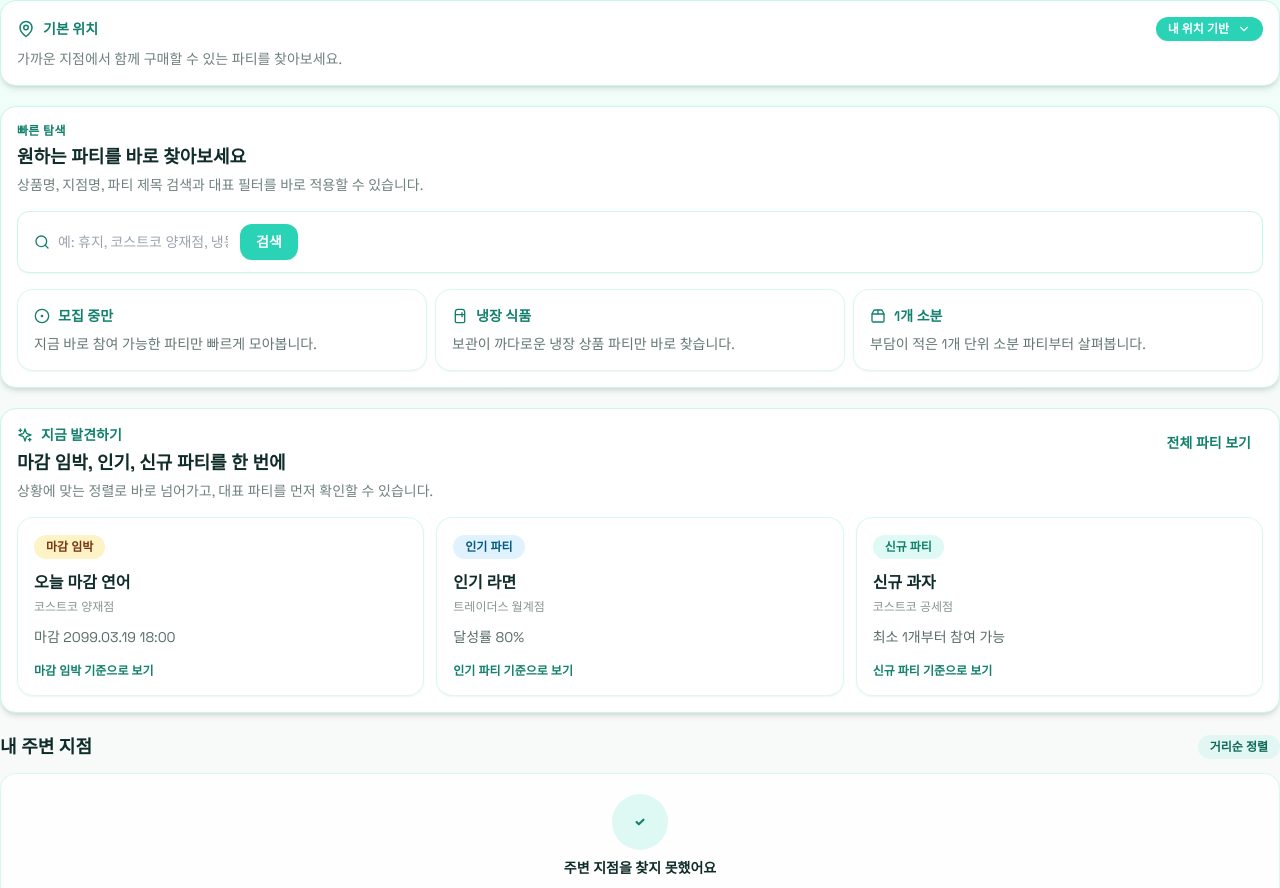
Test: Home quick discovery › 발견_섹션_카드를_누르면_정렬_쿼리를_전달한다
The width and height of the screenshot is (1280, 888).
Expected: the text "신규 과자" is shown, [873,572,936,593]
Click the button "인기 파티" at (489, 547), box [436,517,844,696]
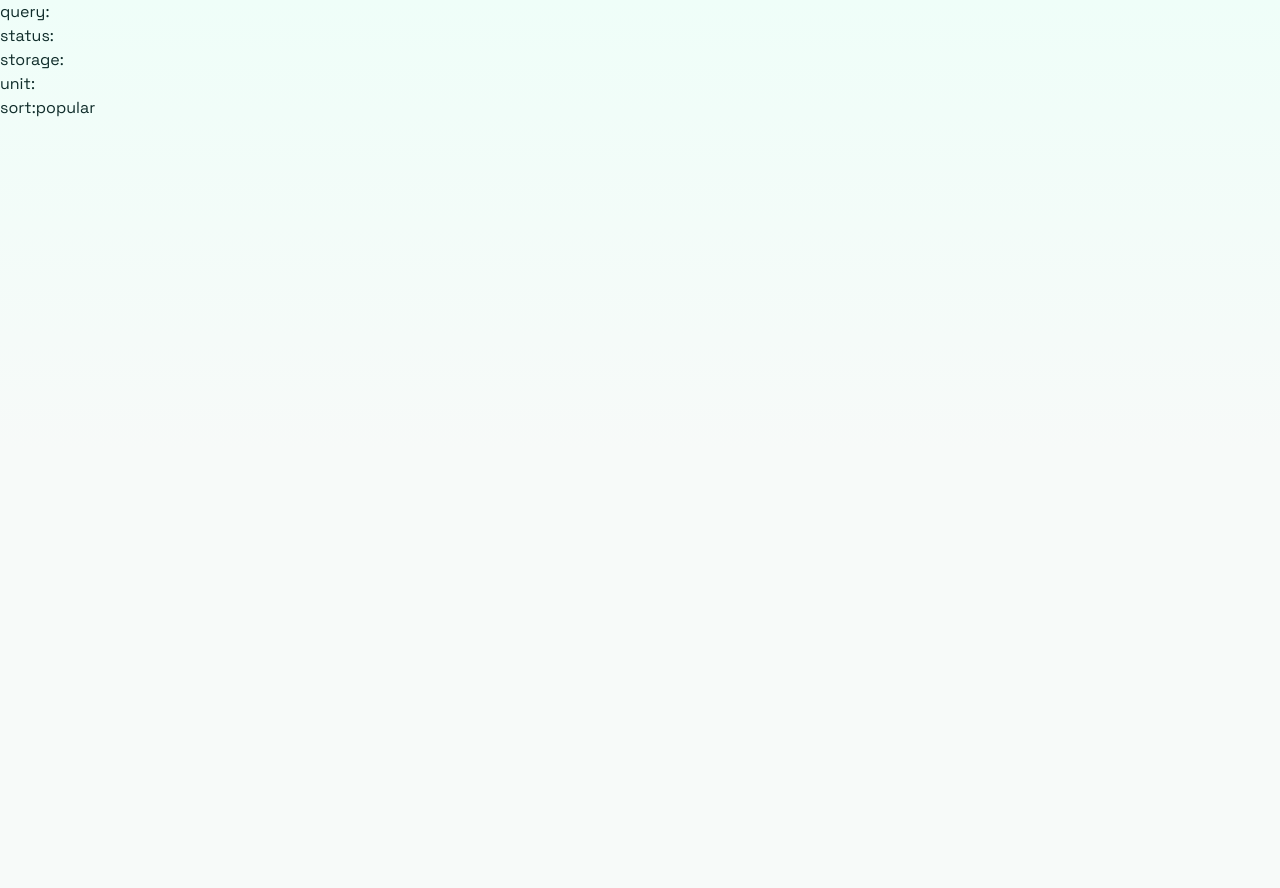
Expected: the text "sort:popular" is shown, [0,97,95,118]
